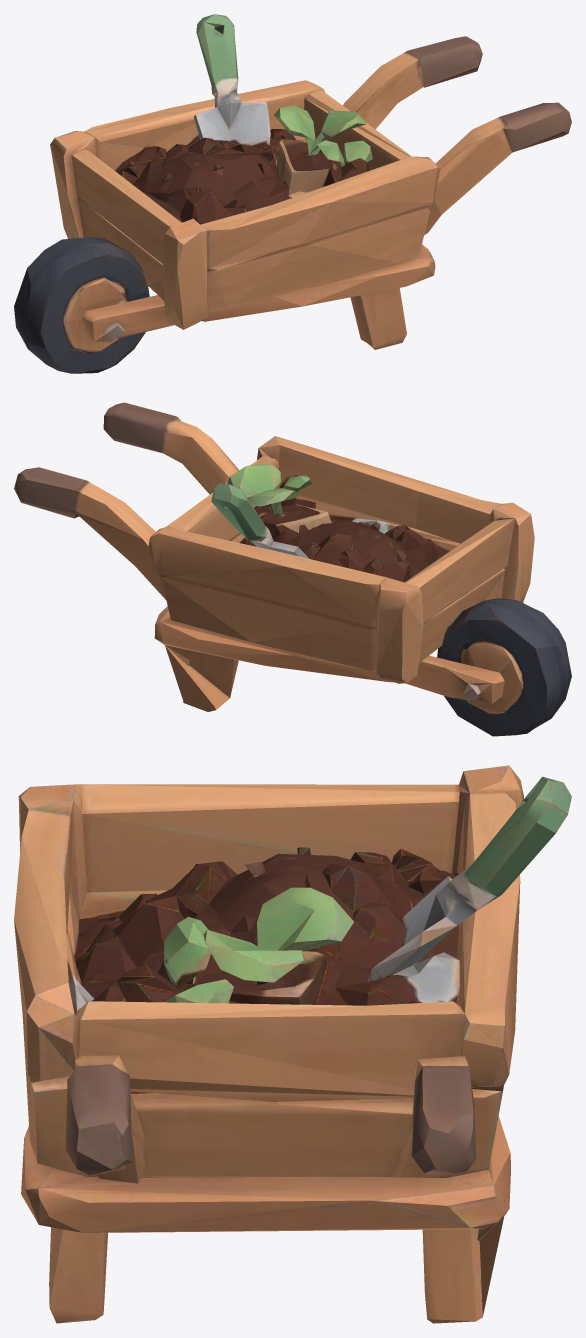
Rendered from farm-wheelbarrow.glb.
3 views of the same model, one above another, from view 1: azimuth 30°, elevation 25°; view 2: azimuth 150°, elevation 25°; view 3: azimuth 270°, elevation 25° (orthographic). The views are drawn at different scales.
Visible parts, largest first — view 1: farm-wheelbarrow-fit; view 2: farm-wheelbarrow-fit; view 3: farm-wheelbarrow-fit.
Boxes of the visible parts, x1,y1,x2,y2 form: farm-wheelbarrow-fit: (14, 14, 571, 373); farm-wheelbarrow-fit: (14, 402, 571, 736); farm-wheelbarrow-fit: (14, 765, 571, 1323).
Size of the model in its own units: 1.4 by 0.6709 by 0.6955.
Materials: 1 (1 with a texture image).
